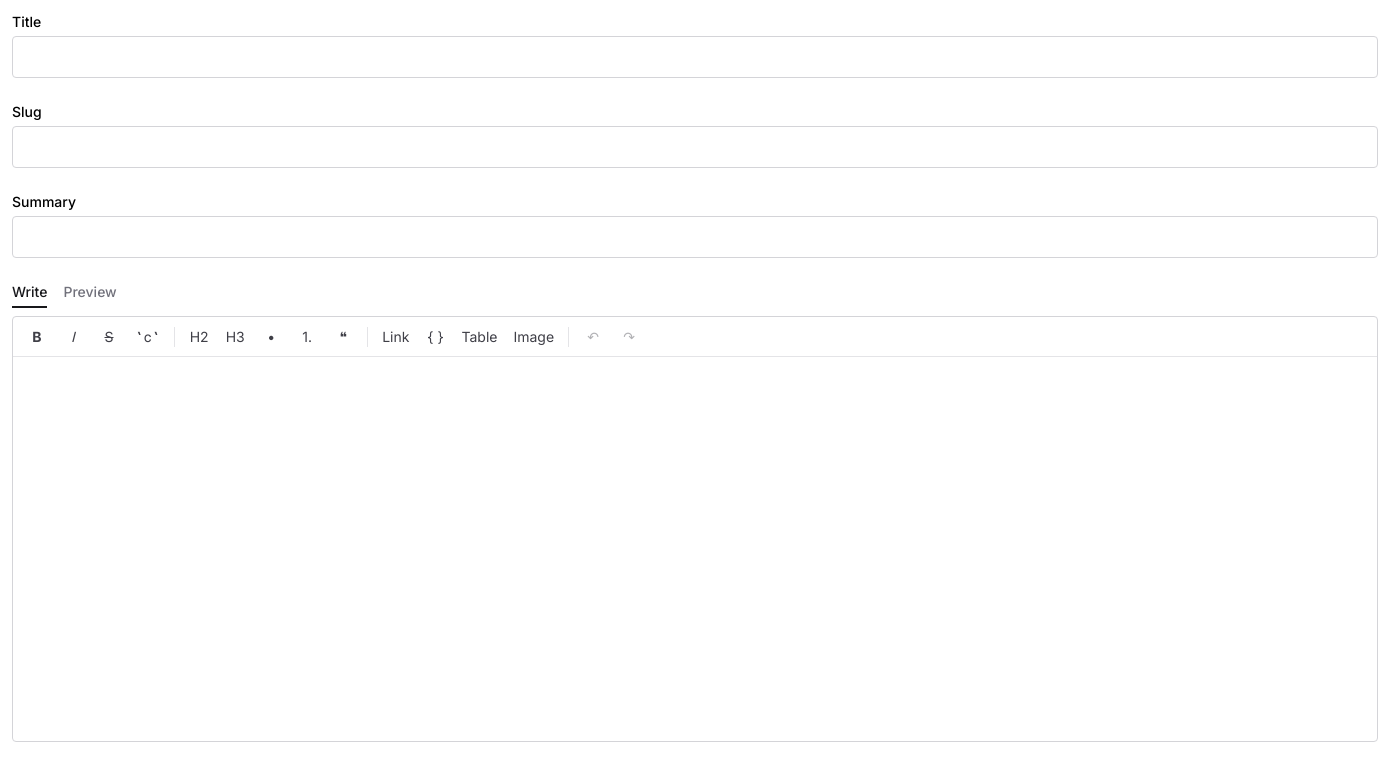
Test: PostEditor, new post › suggests a slug from the title
The width and height of the screenshot is (1390, 768).
Type "Keyset Pagination in Postgres" into the field labelled "Title" at (695, 57), box [12,36,1378,78]
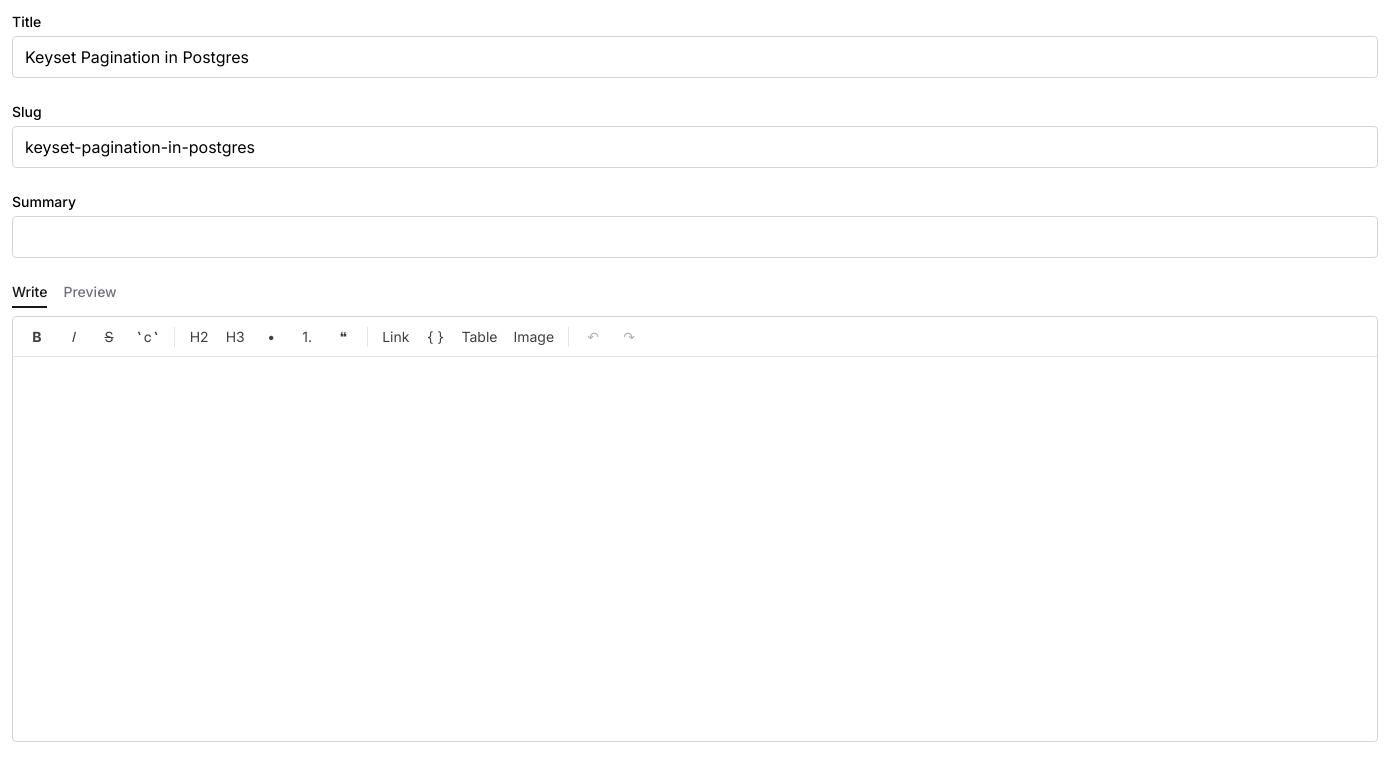
Result: the field labelled "Slug" holds "keyset-pagination-in-postgres" at [12,126,1378,168]
